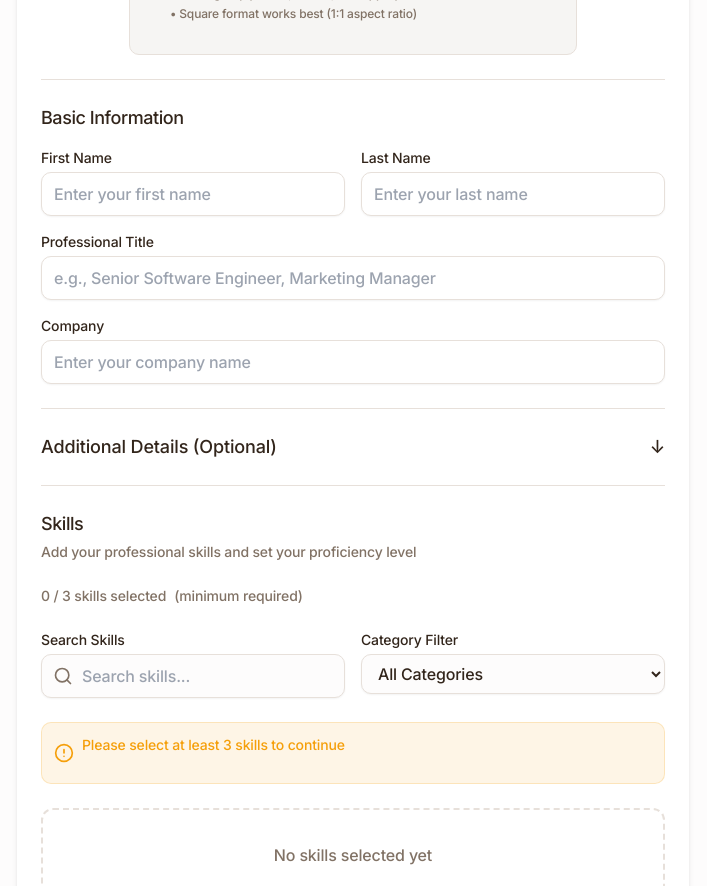
Test: ProfileCreationForm › shows additional fields when expanded
This screenshot has width=707, height=886.
(page scrolled)
Note: Click expand button
Click the text "Additional Details (Optional)".
click(159, 447)  # box [41,433,277,461]
(page scrolled)
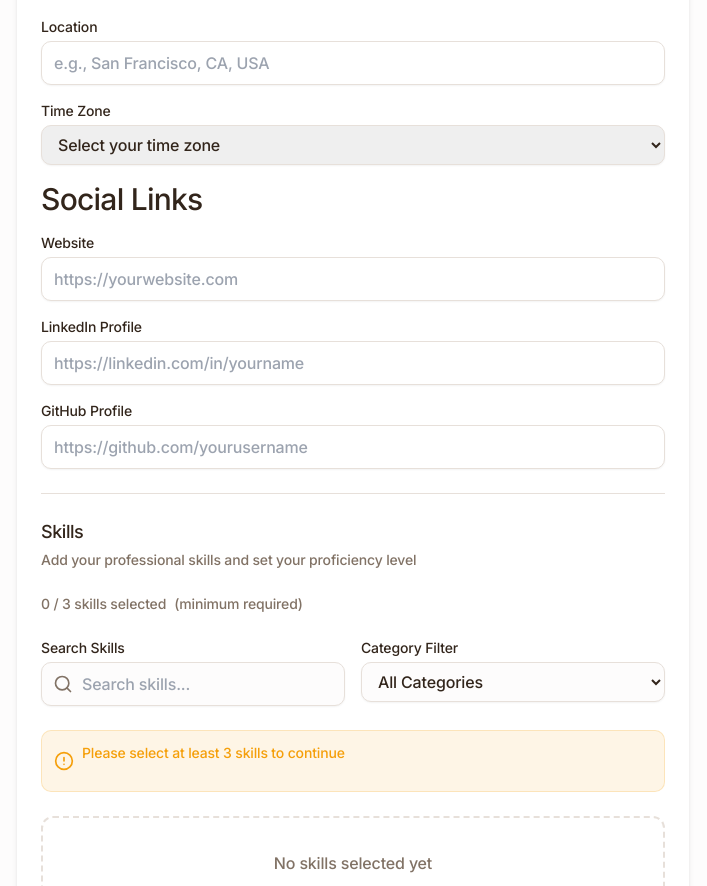
Result: the field labelled "Location" is shown at [41,41,665,85]
Result: the dropdown labelled "Time Zone" is shown at [41,125,665,165]
Result: the field labelled "Website" is shown at [41,257,665,301]
